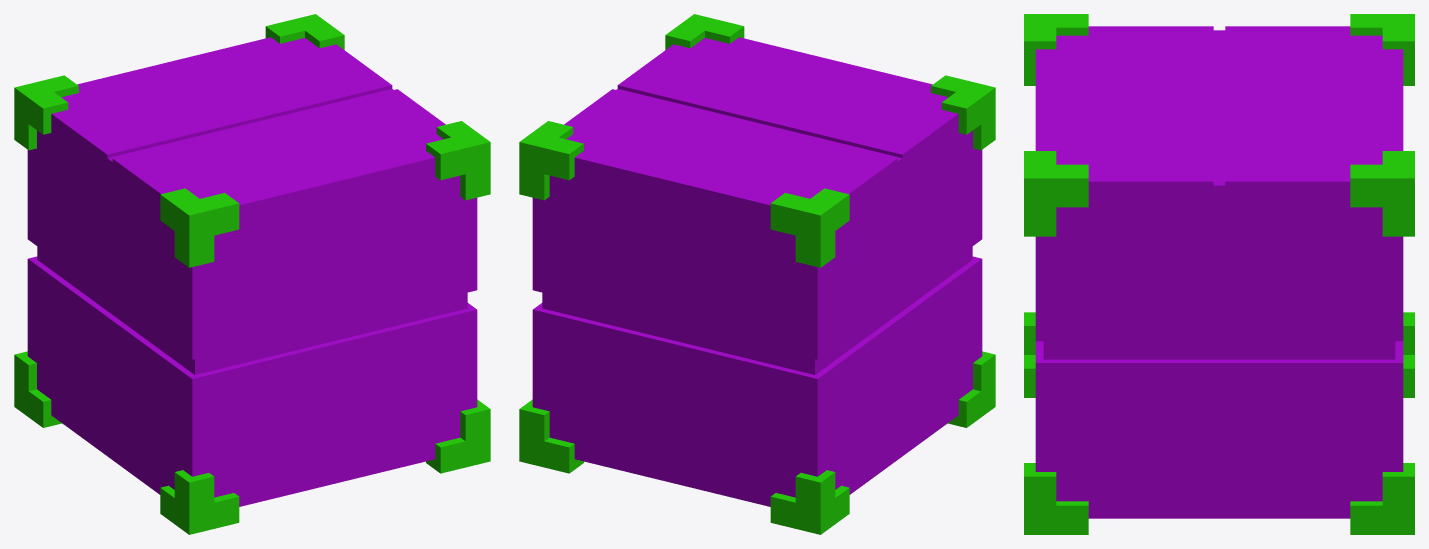
File: Коробка Low.fbx
3 renders of one model, left to right at view 1: azimuth 30°, elevation 25°; view 2: azimuth 150°, elevation 25°; view 3: azimuth 270°, elevation 25°, orthographic. The views are drawn at different scales.
Visible parts, largest first — view 1: Коробка Low; view 2: Коробка Low; view 3: Коробка Low.
Boxes of the visible parts, x1,y1,x2,y2 form: Коробка Low: [14, 14, 490, 534]; Коробка Low: [519, 14, 995, 534]; Коробка Low: [1024, 14, 1414, 534].
Size of the model in its own units: 212 by 214 by 213.
